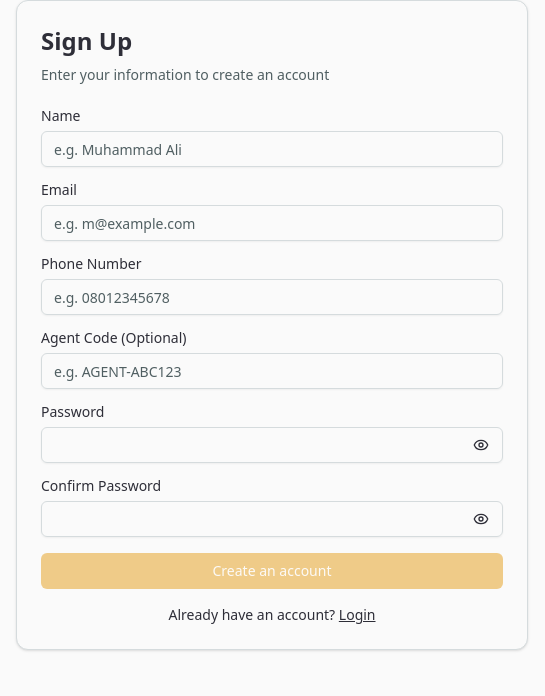
Scenario: RegisterForm Component › Form Validation › should show error when phone is invalid Nigerian number
In the field labelled "Phone Number": [272, 297] box x1=41 y1=279 x2=503 y2=315, type "123"
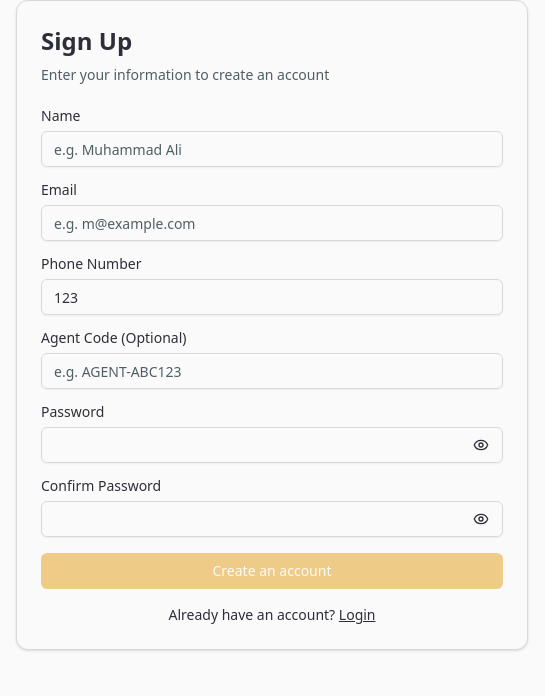
Leave the field labelled "Phone Number", box x1=41 y1=279 x2=503 y2=315
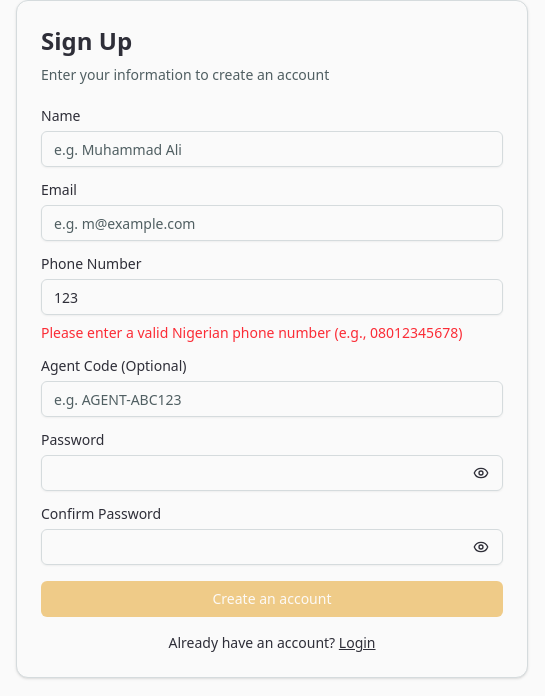
Result: the text "Please enter a valid Nigerian phone number" is shown at x1=41 y1=323 x2=462 y2=342
